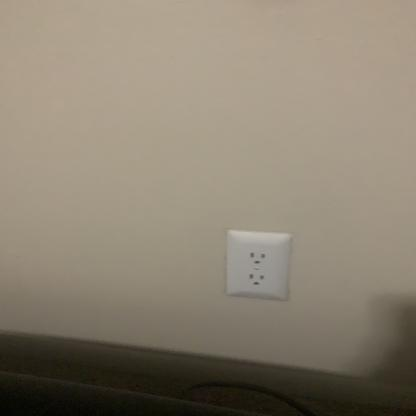OUTLET: (228, 230, 290, 300)
